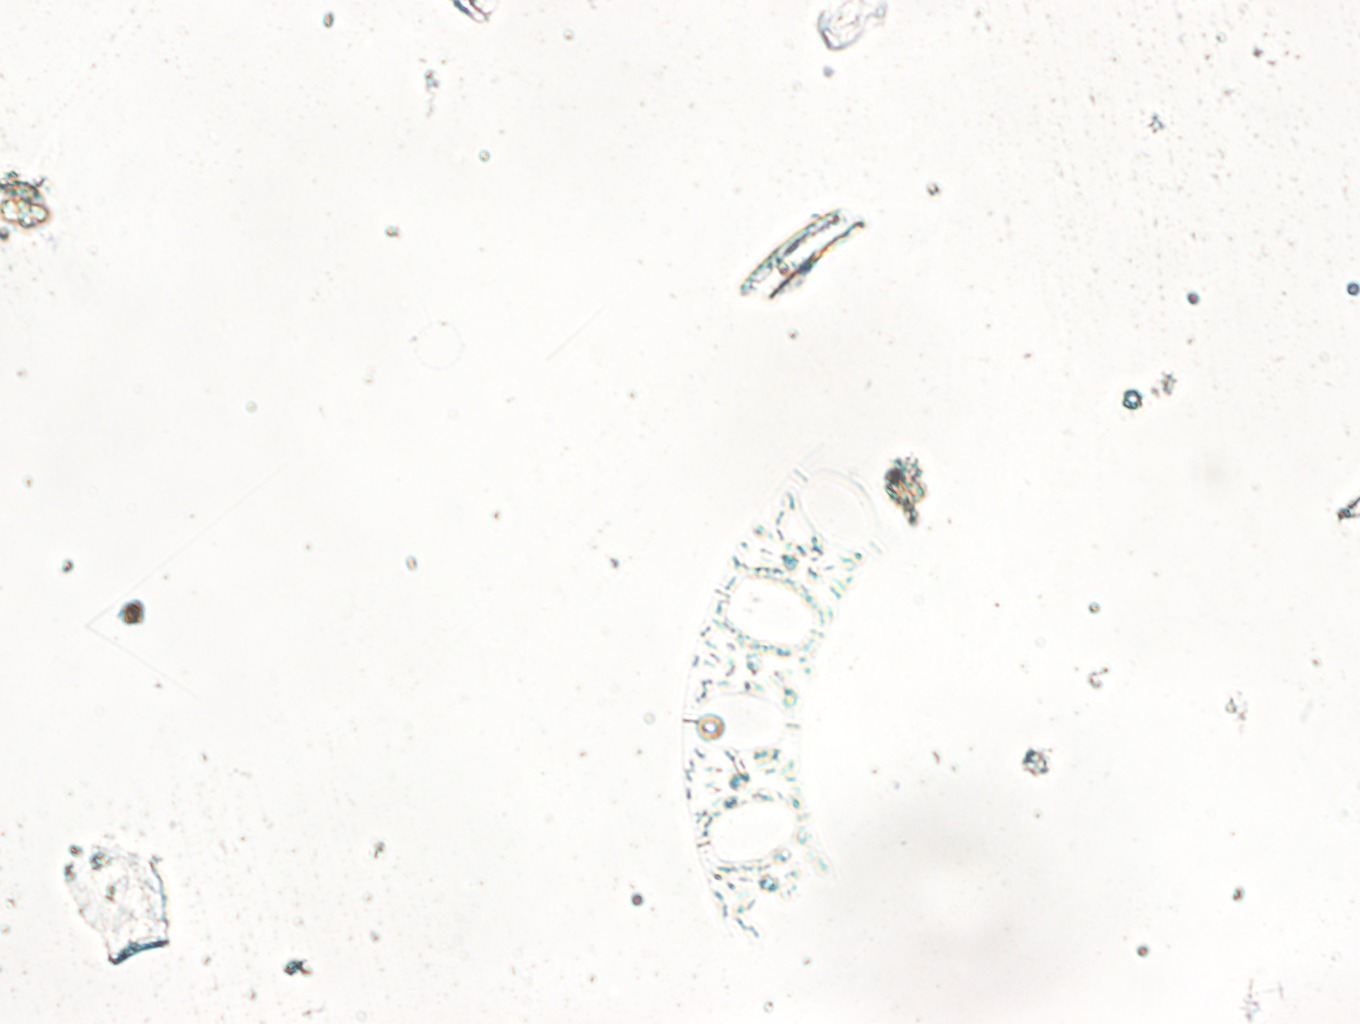eucampia: (681, 443, 893, 949)
